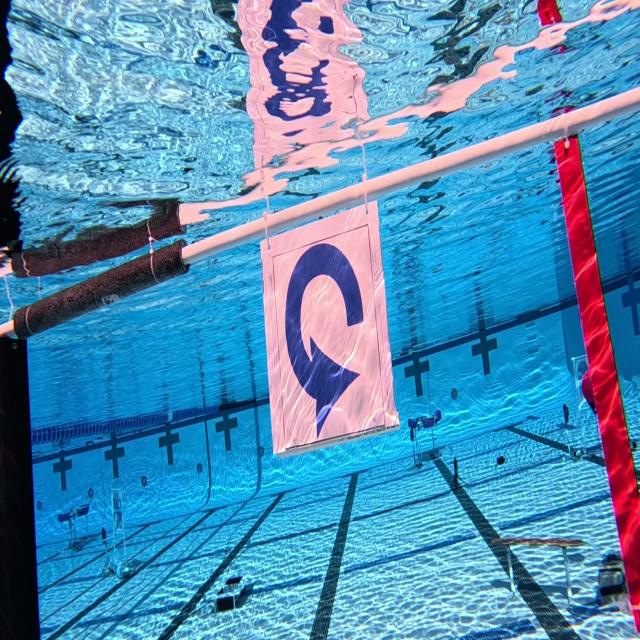blue_side: (259, 201, 402, 460)
